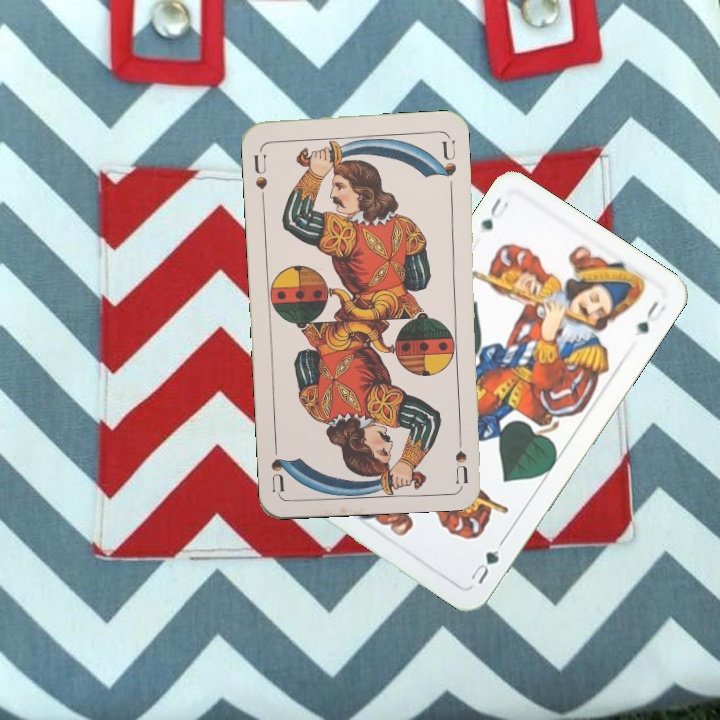GU: (466, 543, 502, 587), (477, 192, 512, 233)
SU: (451, 425, 471, 484), (249, 150, 270, 203)
